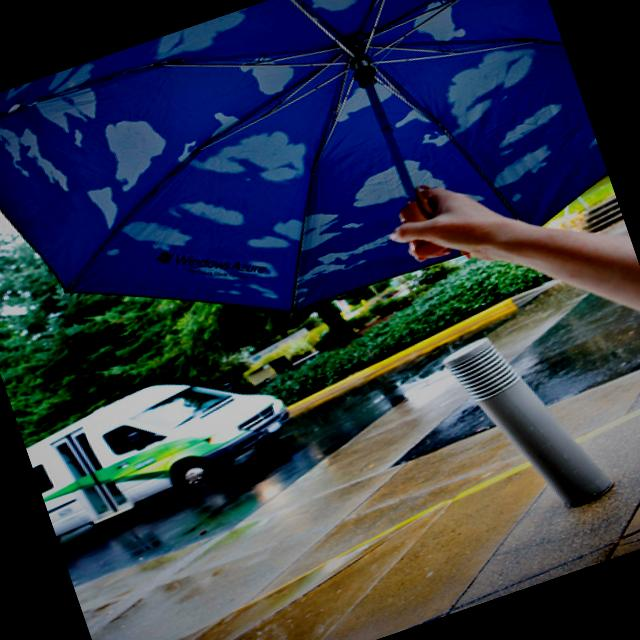Vehicle: (17, 335, 315, 553), (20, 345, 306, 553)
